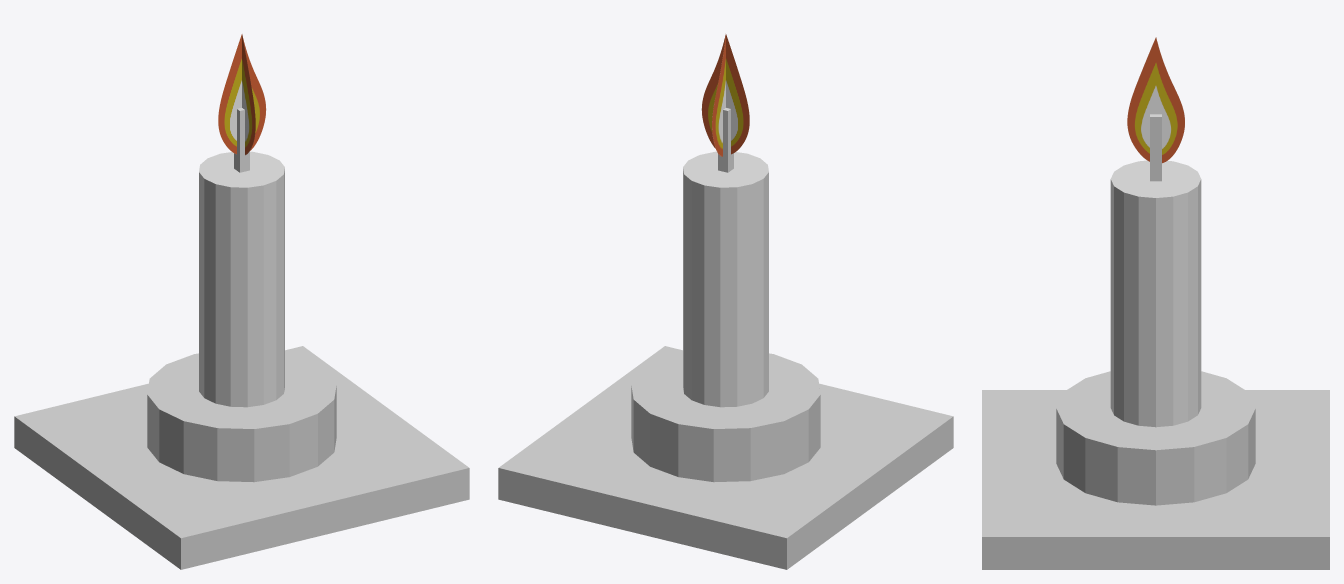
File: Свеча.fbx
The picture shows the model from 3 angles, left to right: view 1: azimuth 30°, elevation 25°; view 2: azimuth 150°, elevation 25°; view 3: azimuth 270°, elevation 25°; orthographic projection. The views are drawn at different scales.
Parts seen in each view (by area): view 1: Plane; view 2: Plane; view 3: Plane.
Part boxes in pixels (x1,y1,x2,y2): Plane: (14,34,469,569); Plane: (498,34,953,569); Plane: (982,37,1329,569).
Size of the model in its own units: 0.2449 by 0.3597 by 0.2449.
